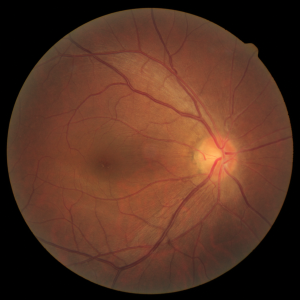healthy_eye: (44, 94, 266, 213)
